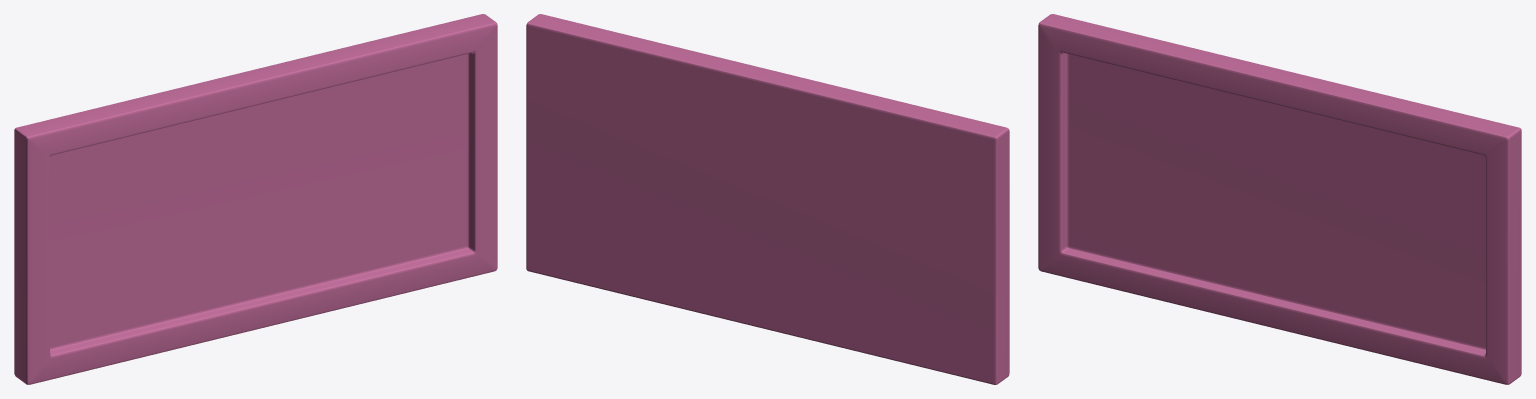
Rendered from SM_PetSuppliesSign.fbx.
3 renders of one model, left to right at view 1: azimuth 30°, elevation 25°; view 2: azimuth 150°, elevation 25°; view 3: azimuth 330°, elevation 25°, orthographic.
Parts seen in each view (by area): view 1: SM_PetSuppliesSign; view 2: SM_PetSuppliesSign; view 3: SM_PetSuppliesSign.
Part boxes in pixels (x1,y1,x2,y2): SM_PetSuppliesSign: (14,14,497,384); SM_PetSuppliesSign: (526,14,1009,384); SM_PetSuppliesSign: (1038,14,1521,384).
Bounding box in the file's own units: 159 × 80 × 8.31.
1 material, 1 textured.
